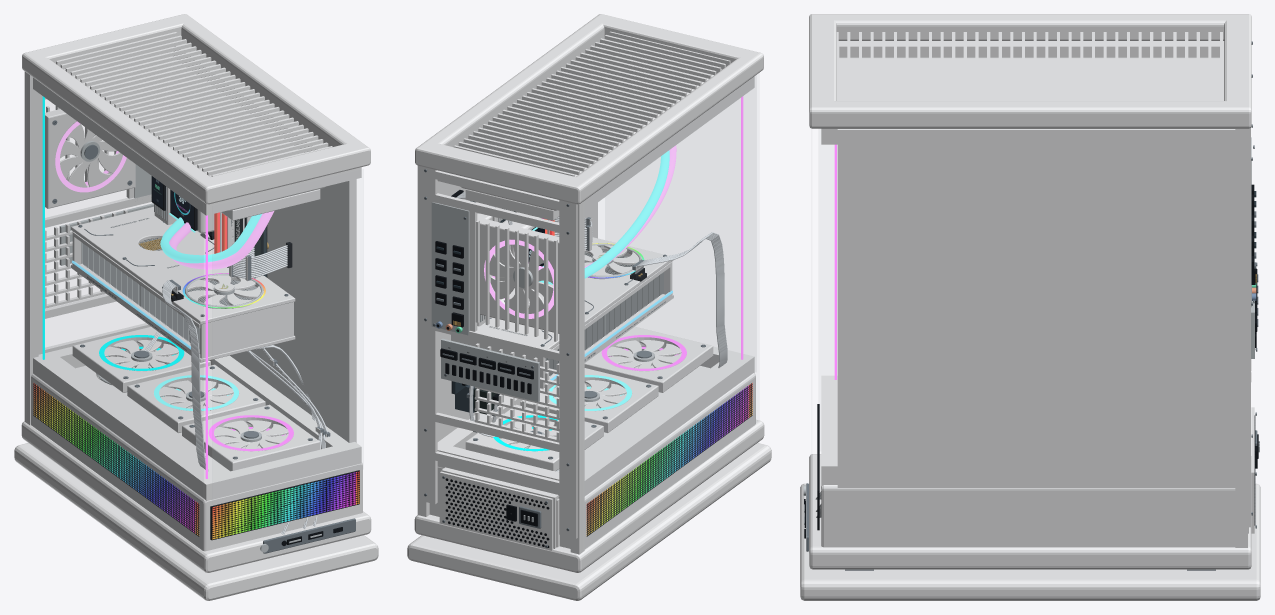
File: showcase92-original.glb
3 views of the same model, side by side, from view 1: azimuth 30°, elevation 25°; view 2: azimuth 150°, elevation 25°; view 3: azimuth 270°, elevation 25° (orthographic). The views are drawn at different scales.
Visible parts, largest first — view 1: s83-surface-6af97ce6-cc82-4dde-8cc4-eabdf3196474, s83-surface-f1ca44fb-6929-4029-9214-45af81b63c52, s83-fan-6, s83-fan-10, s83-fan-5, s83-fan-3, s83-surface-b8261c52-9e95-42ed-aa44-703fa8dda400, s83-fan-4, s83-surface-661f6ac9-e68e-4010-a7f0-59f7dc23c779, s83-surface-2c948b66-0e1c-4022-8e85-47aa23411885, s83-surface-7fc4b921-250b-4197-918a-9d35f9997443, s83-surface-a5a745e0-0718-4bc5-8d38-62fe8e099d34 (+4 smaller); view 2: s83-surface-6af97ce6-cc82-4dde-8cc4-eabdf3196474, s83-surface-79a4ce7c-479a-498d-8687-3ced13c60f84, s83-surface-f1ca44fb-6929-4029-9214-45af81b63c52, s83-fan-6, s83-surface-b8261c52-9e95-42ed-aa44-703fa8dda400, s83-fan-5, s83-fan-4, s83-fan-10, s83-surface-2c948b66-0e1c-4022-8e85-47aa23411885, s83-surface-a5a745e0-0718-4bc5-8d38-62fe8e099d34, s83-surface-147c2319-7090-406f-baf2-5a6ced7e3545, s83-surface-661f6ac9-e68e-4010-a7f0-59f7dc23c779; view 3: s83-surface-6af97ce6-cc82-4dde-8cc4-eabdf3196474, s83-surface-2c948b66-0e1c-4022-8e85-47aa23411885.
Part boxes in pixels (x1=…): s83-surface-6af97ce6-cc82-4dde-8cc4-eabdf3196474: x1=14, y1=14, x2=378, y2=600; s83-surface-f1ca44fb-6929-4029-9214-45af81b63c52: x1=33, y1=383, x2=359, y2=540; s83-fan-6: x1=60, y1=124, x2=122, y2=187; s83-fan-10: x1=185, y1=275, x2=263, y2=308; s83-fan-5: x1=214, y1=420, x2=288, y2=451; s83-fan-3: x1=104, y1=340, x2=178, y2=371; s83-surface-b8261c52-9e95-42ed-aa44-703fa8dda400: x1=160, y1=213, x2=262, y2=263; s83-fan-4: x1=159, y1=380, x2=233, y2=411; s83-surface-661f6ac9-e68e-4010-a7f0-59f7dc23c779: x1=169, y1=211, x2=274, y2=269; s83-surface-2c948b66-0e1c-4022-8e85-47aa23411885: x1=205, y1=215, x2=207, y2=478; s83-surface-7fc4b921-250b-4197-918a-9d35f9997443: x1=42, y1=96, x2=44, y2=359; s83-surface-a5a745e0-0718-4bc5-8d38-62fe8e099d34: x1=55, y1=121, x2=126, y2=192; s83-surface-6af97ce6-cc82-4dde-8cc4-eabdf3196474: x1=407, y1=14, x2=771, y2=600; s83-surface-79a4ce7c-479a-498d-8687-3ced13c60f84: x1=605, y1=75, x2=756, y2=372; s83-surface-f1ca44fb-6929-4029-9214-45af81b63c52: x1=586, y1=383, x2=752, y2=536; s83-fan-6: x1=489, y1=244, x2=553, y2=313; s83-surface-b8261c52-9e95-42ed-aa44-703fa8dda400: x1=539, y1=150, x2=669, y2=284; s83-fan-5: x1=607, y1=340, x2=681, y2=371; s83-fan-4: x1=552, y1=380, x2=626, y2=411; s83-fan-10: x1=584, y1=245, x2=642, y2=279; s83-surface-2c948b66-0e1c-4022-8e85-47aa23411885: x1=741, y1=96, x2=743, y2=359; s83-surface-a5a745e0-0718-4bc5-8d38-62fe8e099d34: x1=484, y1=239, x2=553, y2=318; s83-surface-147c2319-7090-406f-baf2-5a6ced7e3545: x1=601, y1=335, x2=686, y2=370; s83-surface-661f6ac9-e68e-4010-a7f0-59f7dc23c779: x1=538, y1=145, x2=676, y2=270; s83-surface-6af97ce6-cc82-4dde-8cc4-eabdf3196474: x1=800, y1=14, x2=1260, y2=600; s83-surface-2c948b66-0e1c-4022-8e85-47aa23411885: x1=834, y1=144, x2=836, y2=379.
Size of the model in its own units: 1.32 by 2.98 by 2.53.
Materials: 41 (40 with a texture image).
